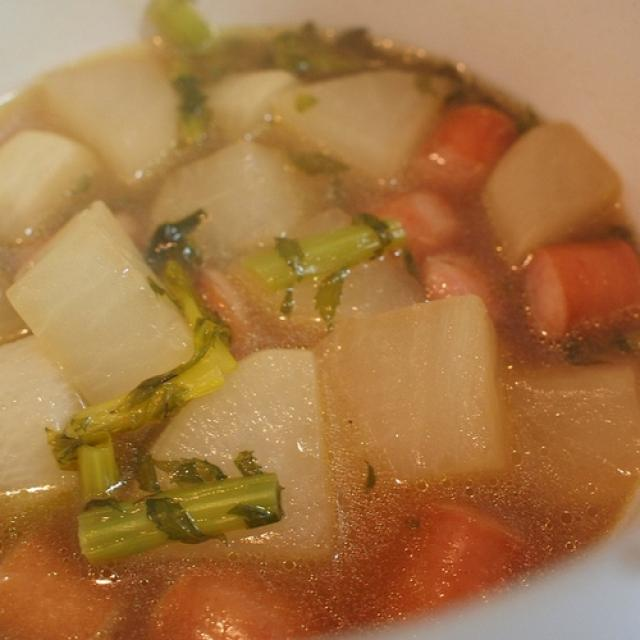汤锅炖物: (4, 13, 627, 636)
